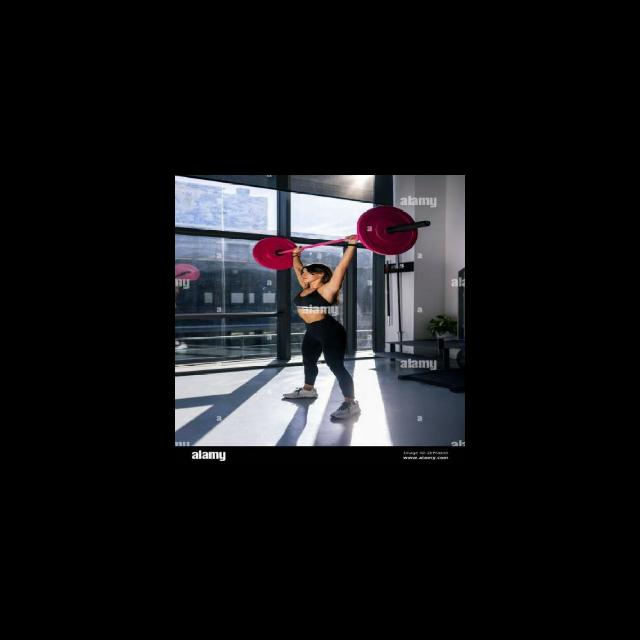barbell: (354, 201, 423, 257)
